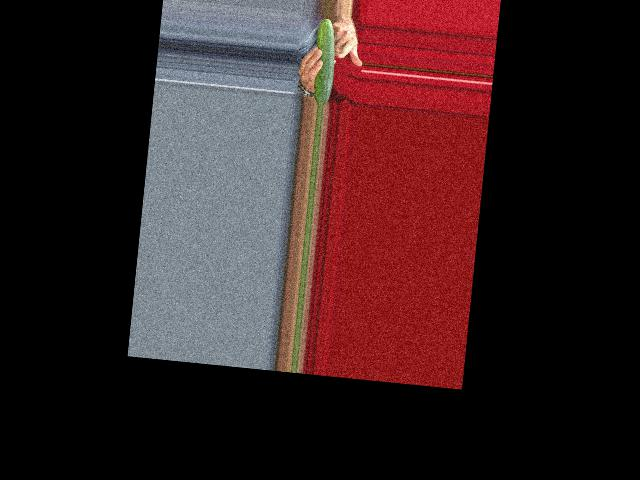cucumber: (310, 17, 338, 105)
